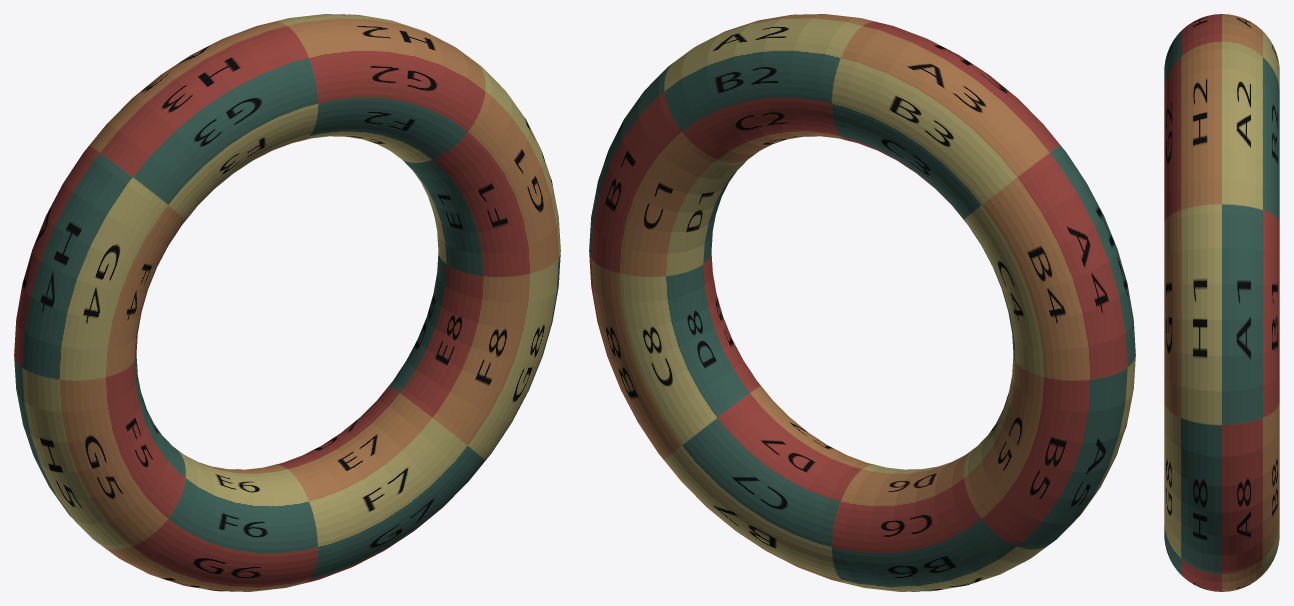
The model's file is texture_torus_R5_r5.glb.
3 views of the same model, side by side, from view 1: azimuth 30°, elevation 25°; view 2: azimuth 150°, elevation 25°; view 3: azimuth 270°, elevation 25° (orthographic). The views are drawn at different scales.
Parts seen in each view (by area): view 1: world; view 2: world; view 3: world.
Part boxes in pixels (left/top/right/bottom): world: left=14, top=14, right=560, bottom=591; world: left=589, top=14, right=1135, bottom=591; world: left=1164, top=14, right=1279, bottom=591.
Size of the model in its own units: 16.67 by 16.63 by 3.33.
1 material, 1 textured.
